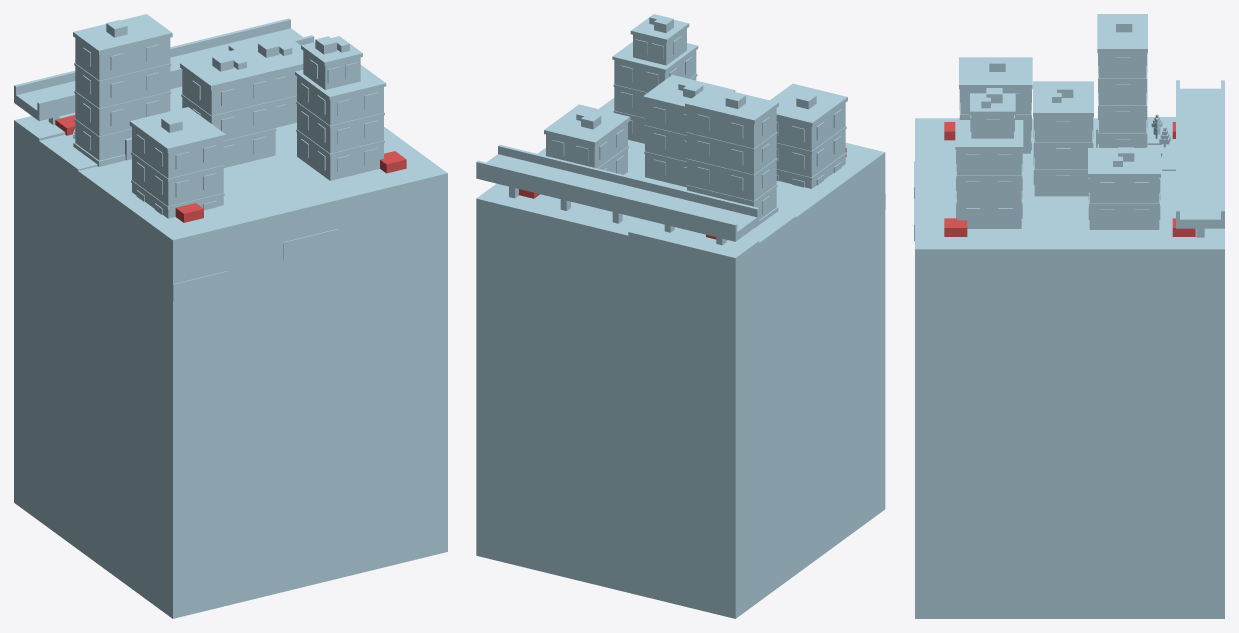
File: block_7_sewersystem_100.glb
3 renders of one model, left to right at view 1: azimuth 30°, elevation 25°; view 2: azimuth 150°, elevation 25°; view 3: azimuth 270°, elevation 25°, orthographic. The views are drawn at different scales.
Visible parts, largest first — view 1: Patch_UpperLeft_b04_SL, Res_UL_05_SL, Res_UL_09_SL, Res_UL_06_SL, Res_UL_08_SL, Bridge_UpperLeft_b04_SL, Green_UpperLeft_j4_b04_SL, Res_UL_07_SL, SL_Net_07, Paver_UpperLeft_b04_SL, Roads_UpperLeft_b04_SL; view 2: Patch_UpperLeft_b04_SL, Bridge_UpperLeft_b04_SL, Res_UL_05_SL, Res_UL_06_SL, Res_UL_09_SL, Res_UL_08_SL, Res_UL_07_SL, Paver_UpperLeft_b04_SL, Green_UpperLeft_j4_b04_SL; view 3: Patch_UpperLeft_b04_SL, Res_UL_09_SL, Bridge_UpperLeft_b04_SL, Res_UL_05_SL, Res_UL_08_SL, Res_UL_07_SL, Res_UL_06_SL, Green_UpperLeft_j4_b04_SL, SL_Net_07, Roads_UpperLeft_b04_SL.
Part boxes in pixels (x1,y1,x2,y2): Patch_UpperLeft_b04_SL: (14,86,447,618); Res_UL_05_SL: (73,14,172,166); Res_UL_09_SL: (295,36,386,180); Res_UL_06_SL: (129,107,225,218); Res_UL_08_SL: (180,47,277,167); Bridge_UpperLeft_b04_SL: (14,18,314,124); Green_UpperLeft_j4_b04_SL: (14,123,447,301); Res_UL_07_SL: (228,32,303,127); SL_Net_07: (55,115,406,222); Paver_UpperLeft_b04_SL: (14,112,75,141); Roads_UpperLeft_b04_SL: (157,200,447,283); Patch_UpperLeft_b04_SL: (476,98,885,618); Bridge_UpperLeft_b04_SL: (476,145,759,245); Res_UL_05_SL: (685,85,778,228); Res_UL_06_SL: (770,83,847,188); Res_UL_09_SL: (612,14,698,143); Res_UL_08_SL: (643,75,735,186); Res_UL_07_SL: (544,104,630,174); Paver_UpperLeft_b04_SL: (476,220,759,267); Green_UpperLeft_j4_b04_SL: (476,193,885,268); Patch_UpperLeft_b04_SL: (915,118,1224,618); Res_UL_09_SL: (955,88,1023,228); Bridge_UpperLeft_b04_SL: (1176,80,1224,237); Res_UL_05_SL: (1096,14,1147,147); Res_UL_08_SL: (1033,81,1093,196); Res_UL_07_SL: (1088,147,1160,229); Res_UL_06_SL: (959,57,1032,153); Green_UpperLeft_j4_b04_SL: (914,117,1224,308); SL_Net_07: (944,122,1195,236); Roads_UpperLeft_b04_SL: (915,275,1216,307).
Bounding box in the file's own units: 9.5 × 16.62 × 9.53.
